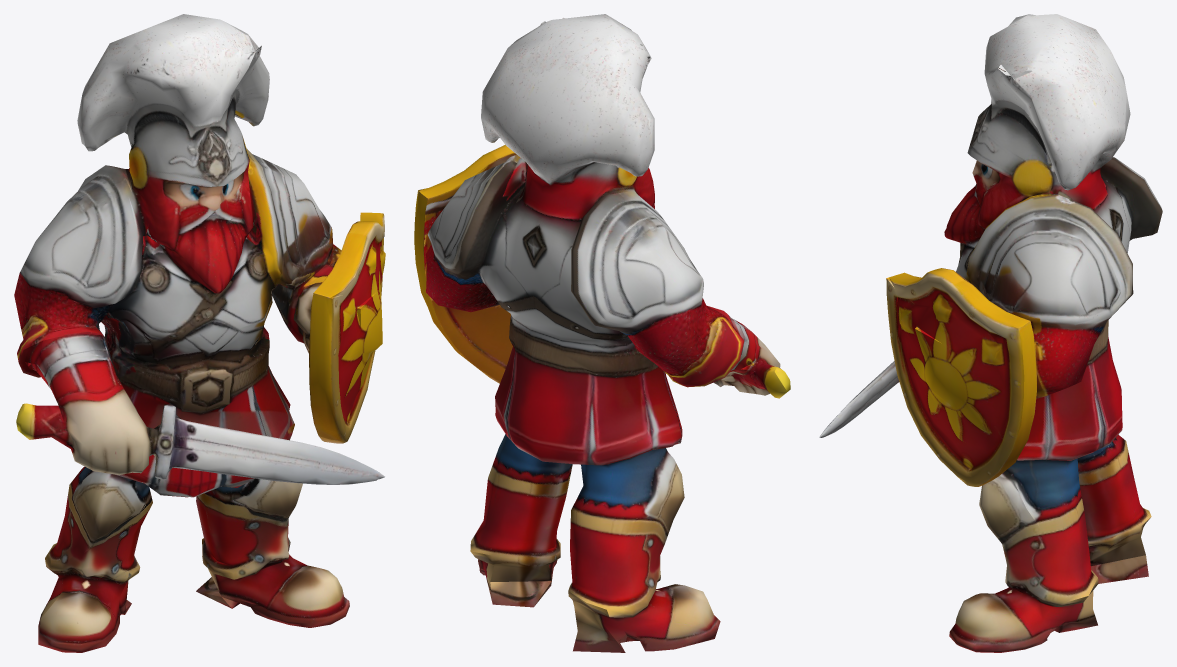
File: Thoren - LOW.glb
3 views of the same model, side by side, from view 1: azimuth 30°, elevation 25°; view 2: azimuth 150°, elevation 25°; view 3: azimuth 270°, elevation 25° (orthographic). The views are drawn at different scales.
Parts seen in each view (by area): view 1: Mesh0; view 2: Mesh0; view 3: Mesh0.
Part boxes in pixels (<box>): Mesh0: <box>14,14,385,652</box>; Mesh0: <box>414,14,790,652</box>; Mesh0: <box>819,14,1162,652</box>.
Size of the model in its own units: 1.31 by 1.98 by 1.08.
1 material, 1 textured.
